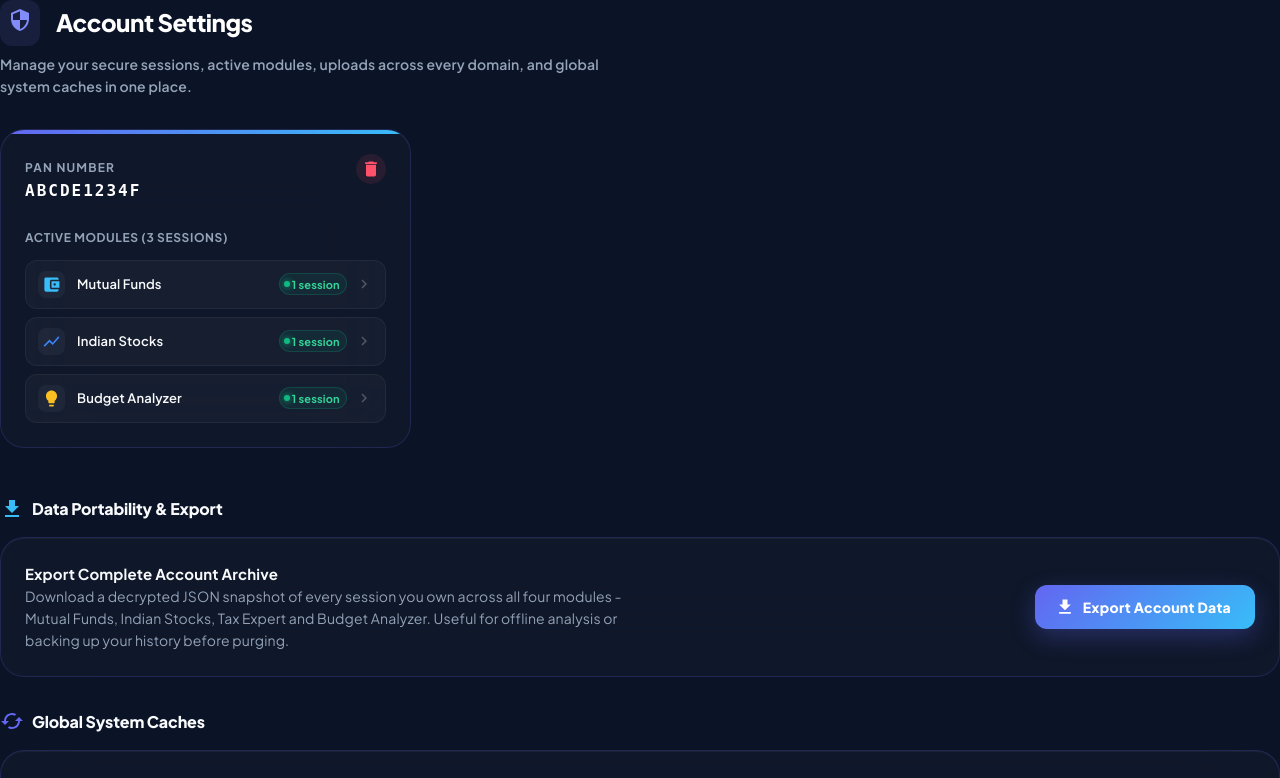
AccountsDashboard › opens purge confirmation dialog
Check: the heading "ABCDE1234F" is shown, box [25, 178, 141, 204]
Click the 1st button at [371, 169], box [356, 154, 386, 184]
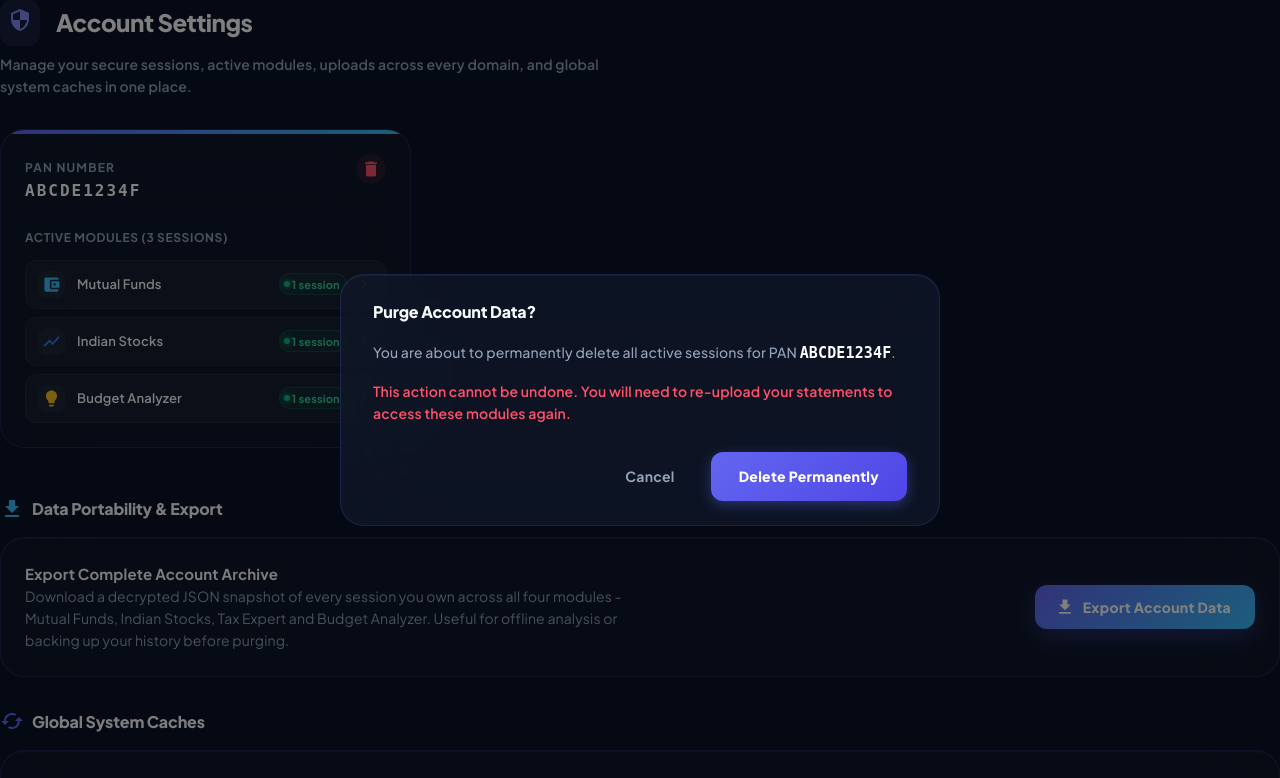
Check: the heading "Purge Account Data?" is shown, box [373, 301, 536, 322]
